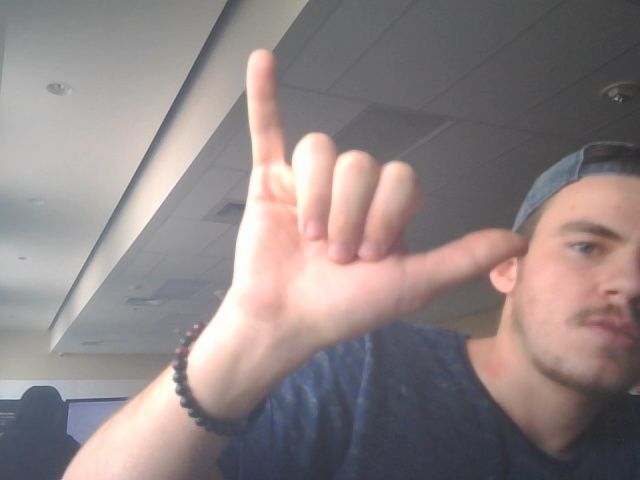birdsup: (225, 43, 539, 348)
